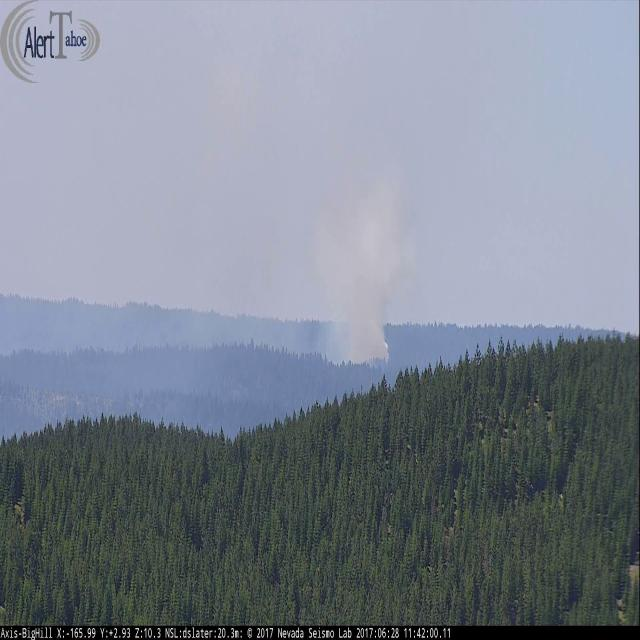smoke: (314, 147, 402, 376)
